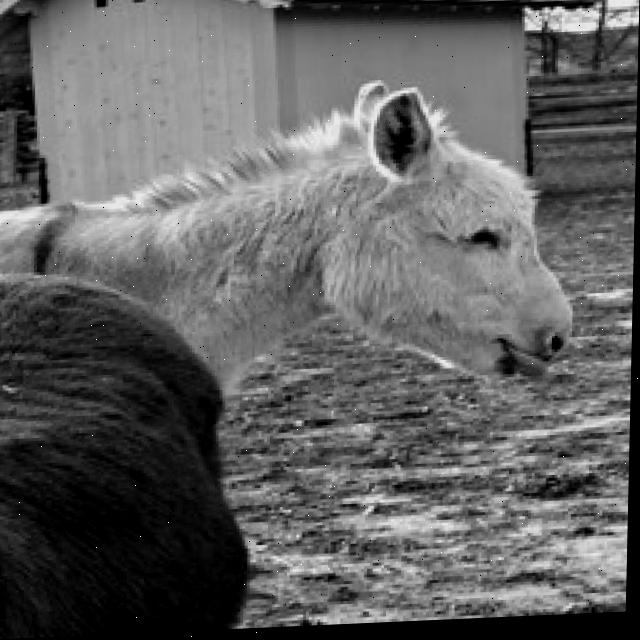Donkey: (0, 68, 578, 637), (0, 257, 257, 637)
